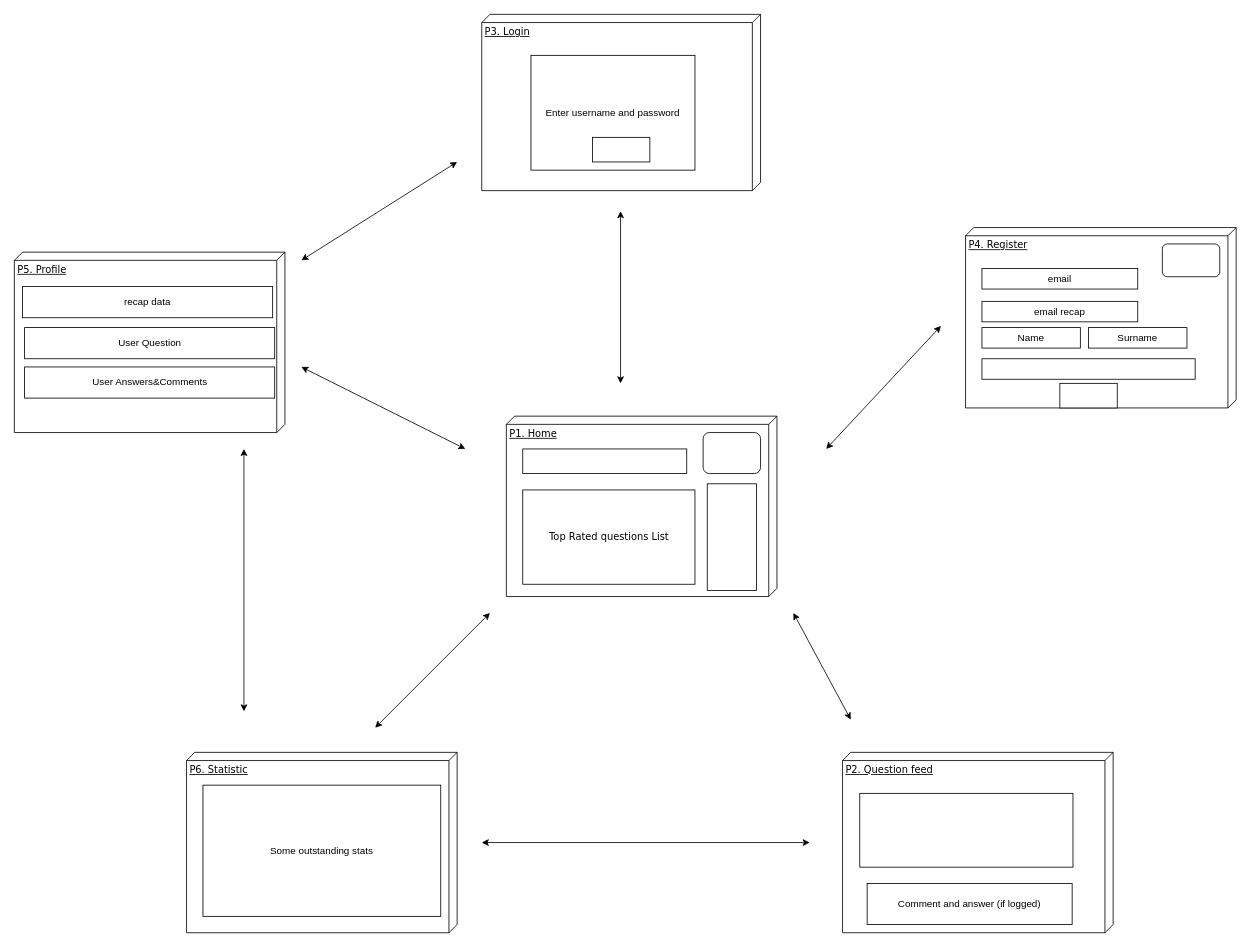
Image size: 1251x947. Some labels were removed from this diagram. Here are the shapes that lost their labels. From the top down, the centre of each, then its label:
point (621, 149): log in
point (1191, 260): Picture
point (1088, 368): Password
point (1088, 395): Register
point (604, 461): Question search system
point (731, 453): Profile portail ( if logged)
point (731, 536): Ask a question (if logged in)
point (966, 830): Question feed Answers, comments, votes
